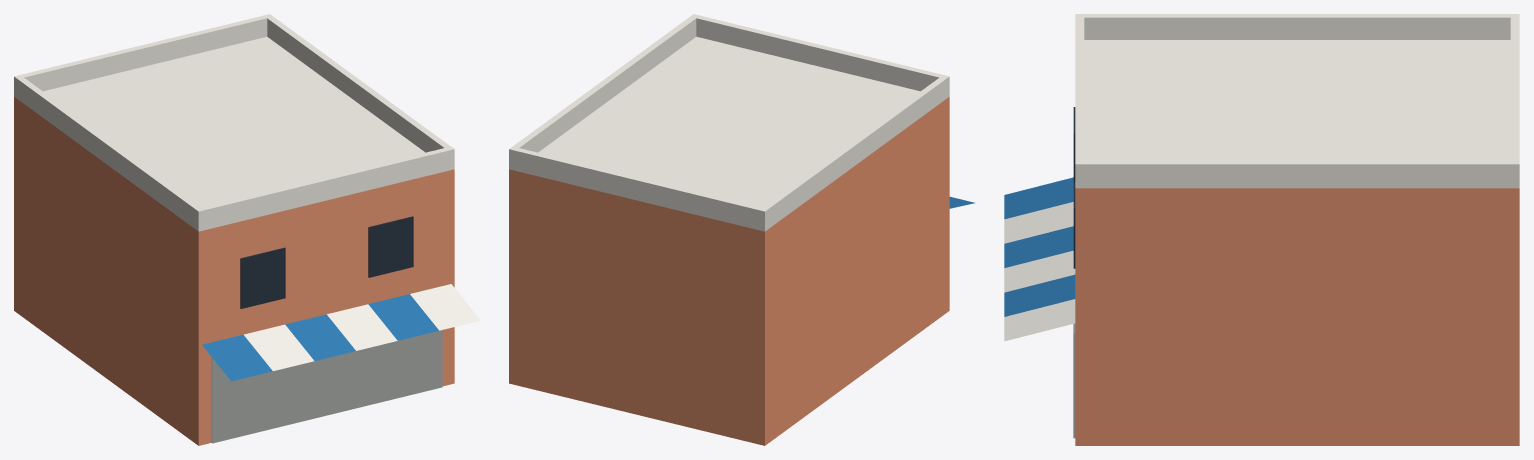
The model's file is bld_bh_shop_b.glb.
3 renders of one model, left to right at view 1: azimuth 30°, elevation 25°; view 2: azimuth 150°, elevation 25°; view 3: azimuth 270°, elevation 25°, orthographic. The views are drawn at different scales.
Visible parts, largest first — view 1: bld_bh_shop_b; view 2: bld_bh_shop_b; view 3: bld_bh_shop_b.
Part boxes in pixels (x1=…): bld_bh_shop_b: x1=14, y1=14, x2=480, y2=445; bld_bh_shop_b: x1=509, y1=14, x2=974, y2=445; bld_bh_shop_b: x1=1004, y1=14, x2=1519, y2=445.
Size of what is drawn, in the model's own units: 8 by 7 by 11.6.
